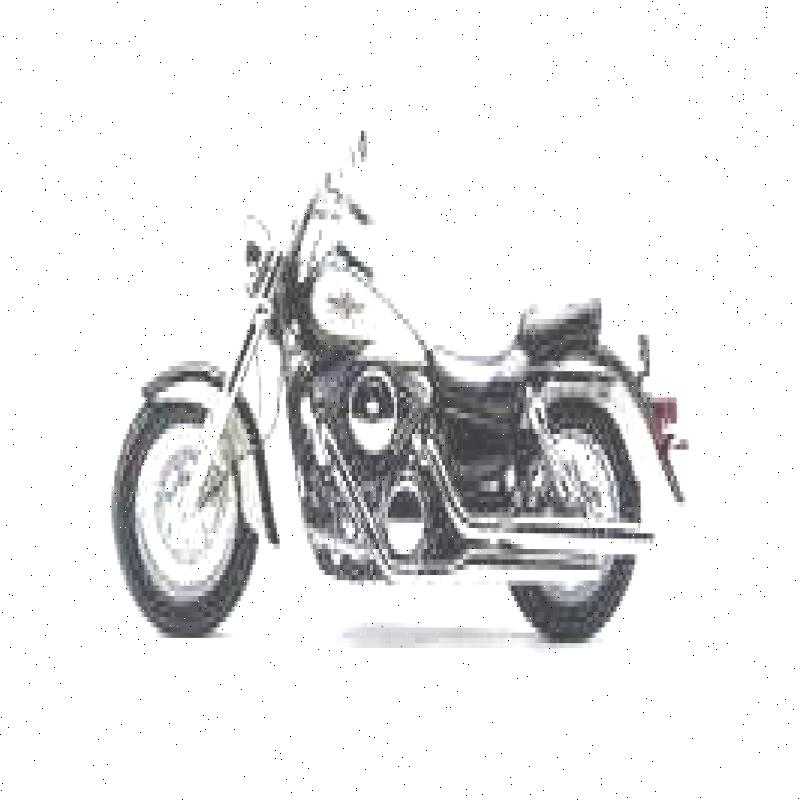bike: (57, 99, 706, 667)
